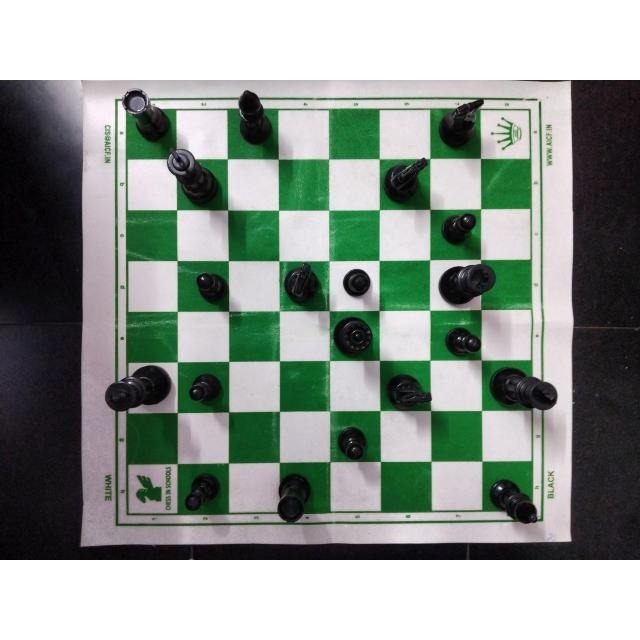black-bishop: (487, 477, 541, 527), (234, 86, 277, 147)
black-king: (103, 362, 175, 413), (167, 146, 223, 208), (487, 364, 560, 411), (119, 87, 173, 145), (435, 262, 499, 307), (272, 473, 315, 523)
black-knight: (436, 96, 485, 152), (384, 158, 430, 210), (282, 261, 322, 307), (384, 372, 432, 409)
black-pawn: (184, 470, 224, 513), (334, 423, 373, 462), (440, 211, 478, 247), (443, 326, 484, 358), (186, 372, 222, 406), (195, 269, 229, 301), (340, 266, 374, 298)
black-queen: (330, 313, 375, 355)
